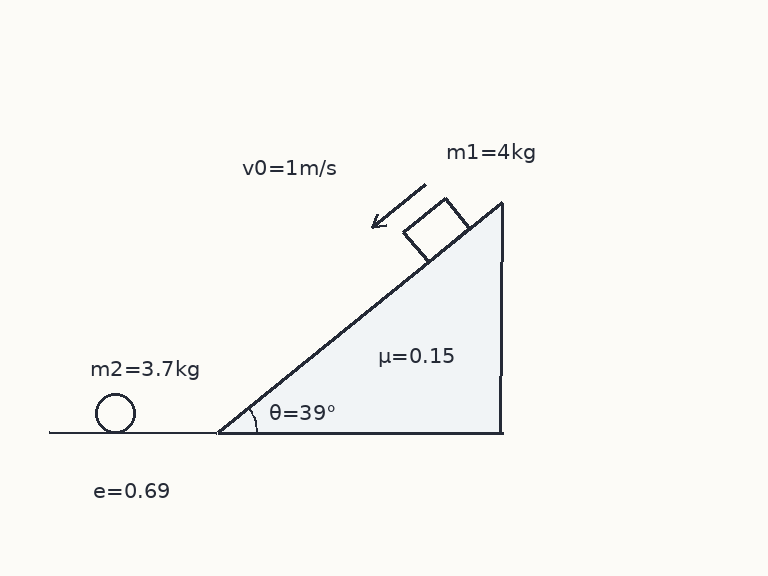ball: (93, 391, 137, 435)
block: (401, 196, 471, 264)
ramp: (215, 201, 503, 435)
